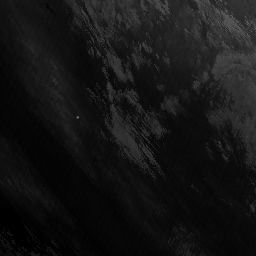Target: (75, 115, 79, 119)
